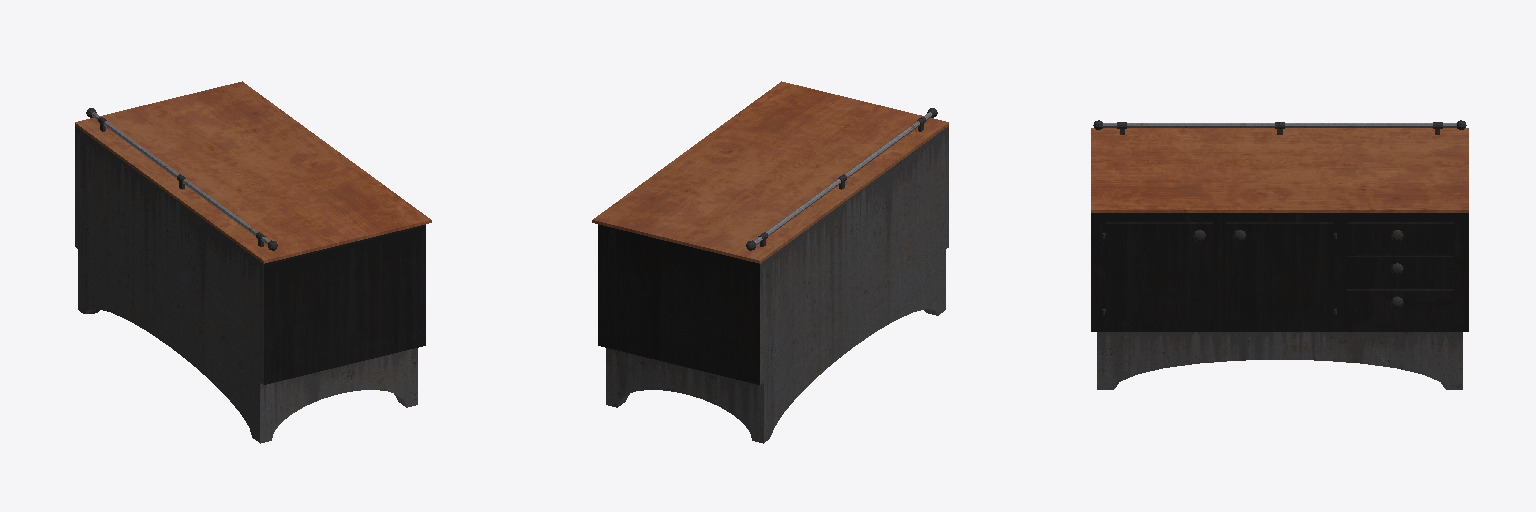
3 views of the same model, side by side, from view 1: azimuth 30°, elevation 25°; view 2: azimuth 150°, elevation 25°; view 3: azimuth 270°, elevation 25° (orthographic).
Parts seen in each view (by area): view 1: worktopmesh; view 2: worktopmesh; view 3: worktopmesh.
Boxes of the visible parts, box(x1,y1,x2,y2) form: worktopmesh: box(75, 81, 431, 443); worktopmesh: box(592, 81, 948, 443); worktopmesh: box(1091, 120, 1468, 389).
Size of the model in its own units: 1.59 by 1.74 by 3.
Materials: 1 (1 with a texture image).